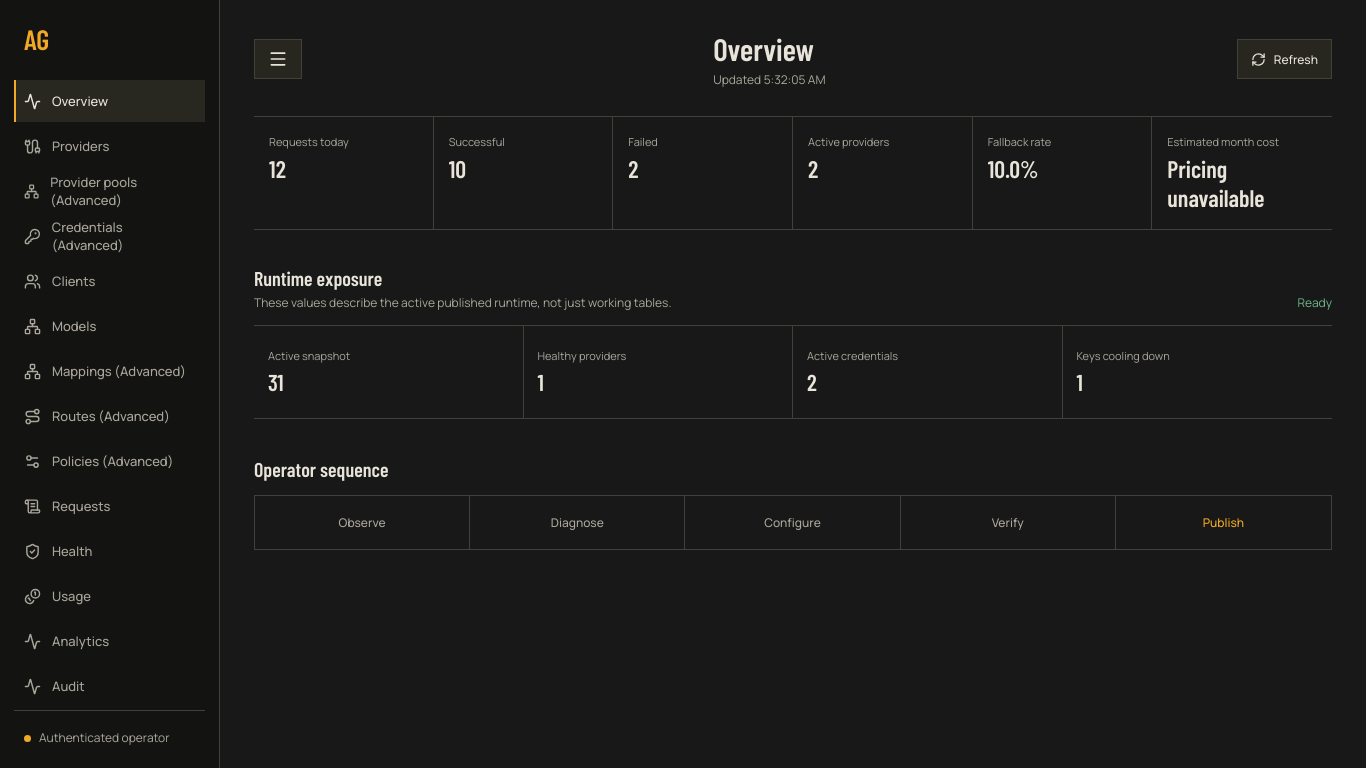
control plane › searches providers and never renders object coercion
Click the button "Providers".
click(110, 146)  # box [14,125,205,167]
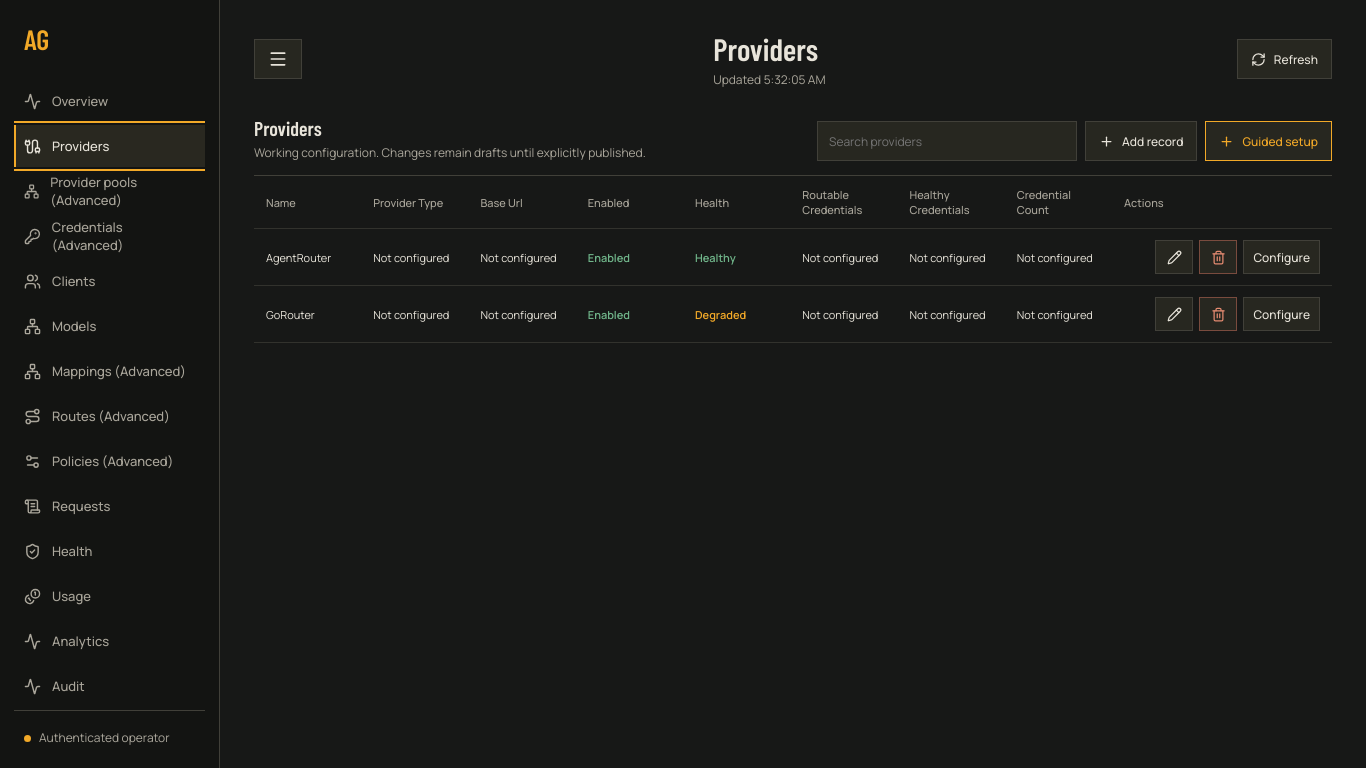
Expected: the text "AgentRouter" is shown, [266,250,331,264]
Type "GoRouter" into the field with placeholder "Search providers".
click(947, 141); type("GoRouter")  # box [817,121,1077,161]
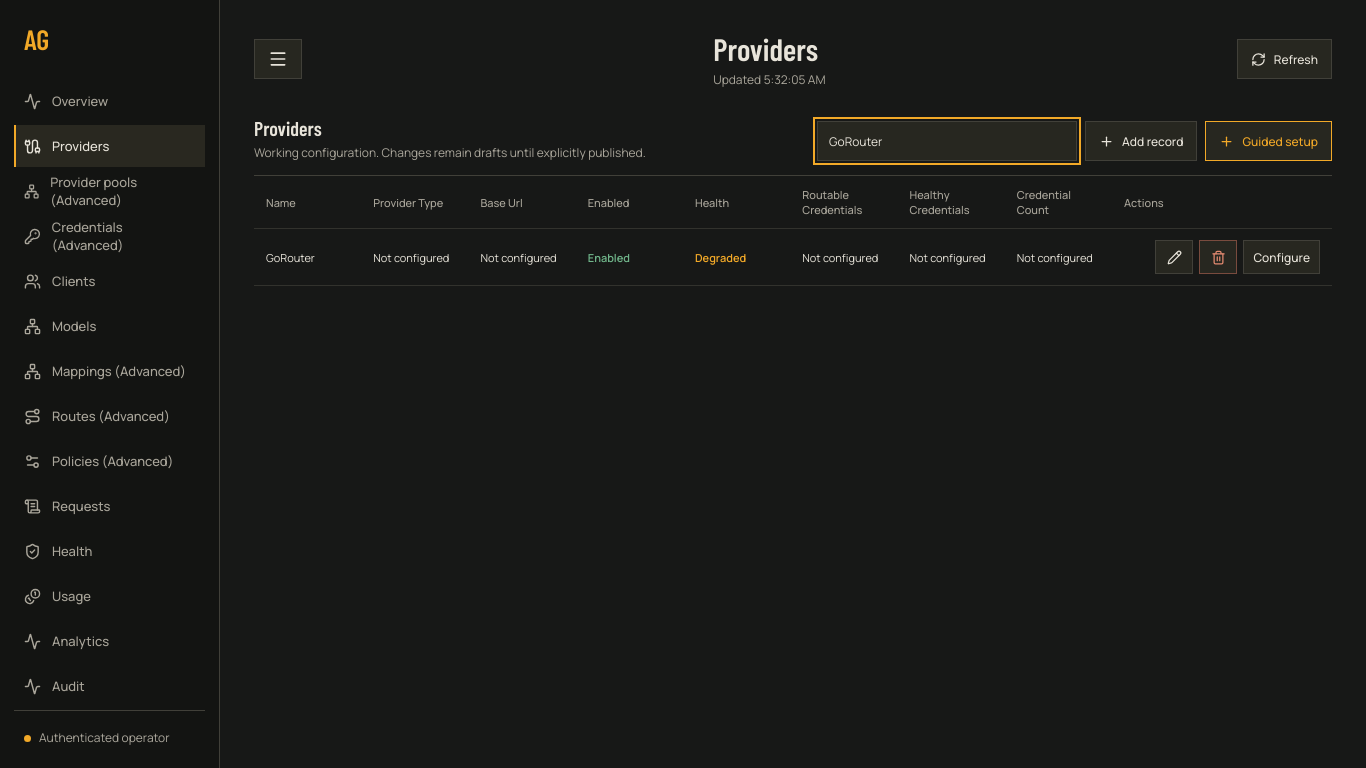
Expected: the text "GoRouter" is shown, [266,250,315,264]
Expected: the text "AgentRouter" is gone
